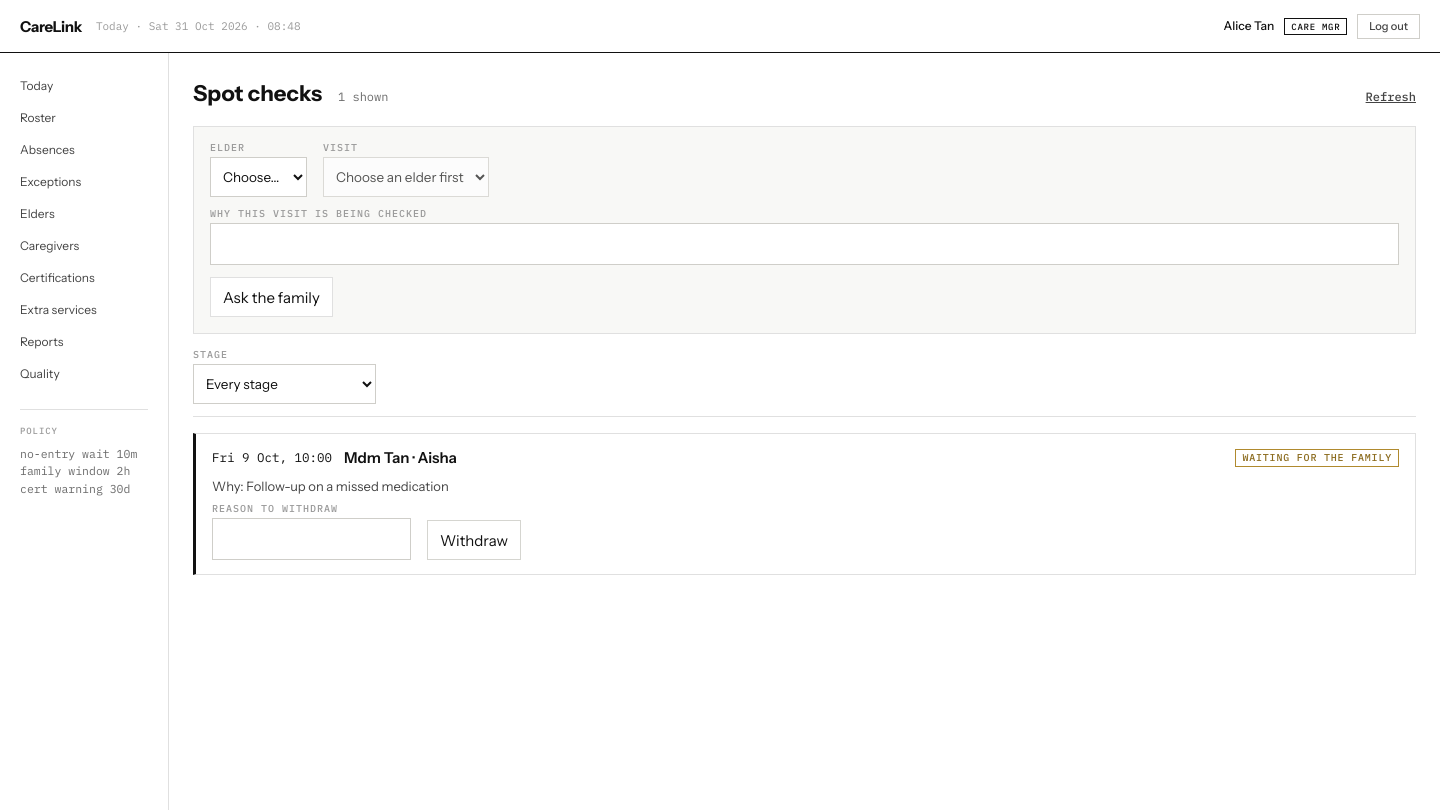
withdraws an open check with a reason and shows why a step was refused
Type "Aisha moved" into the field labelled "Reason to withdraw" at point(312, 539), box left=212, top=518, right=411, bottom=560
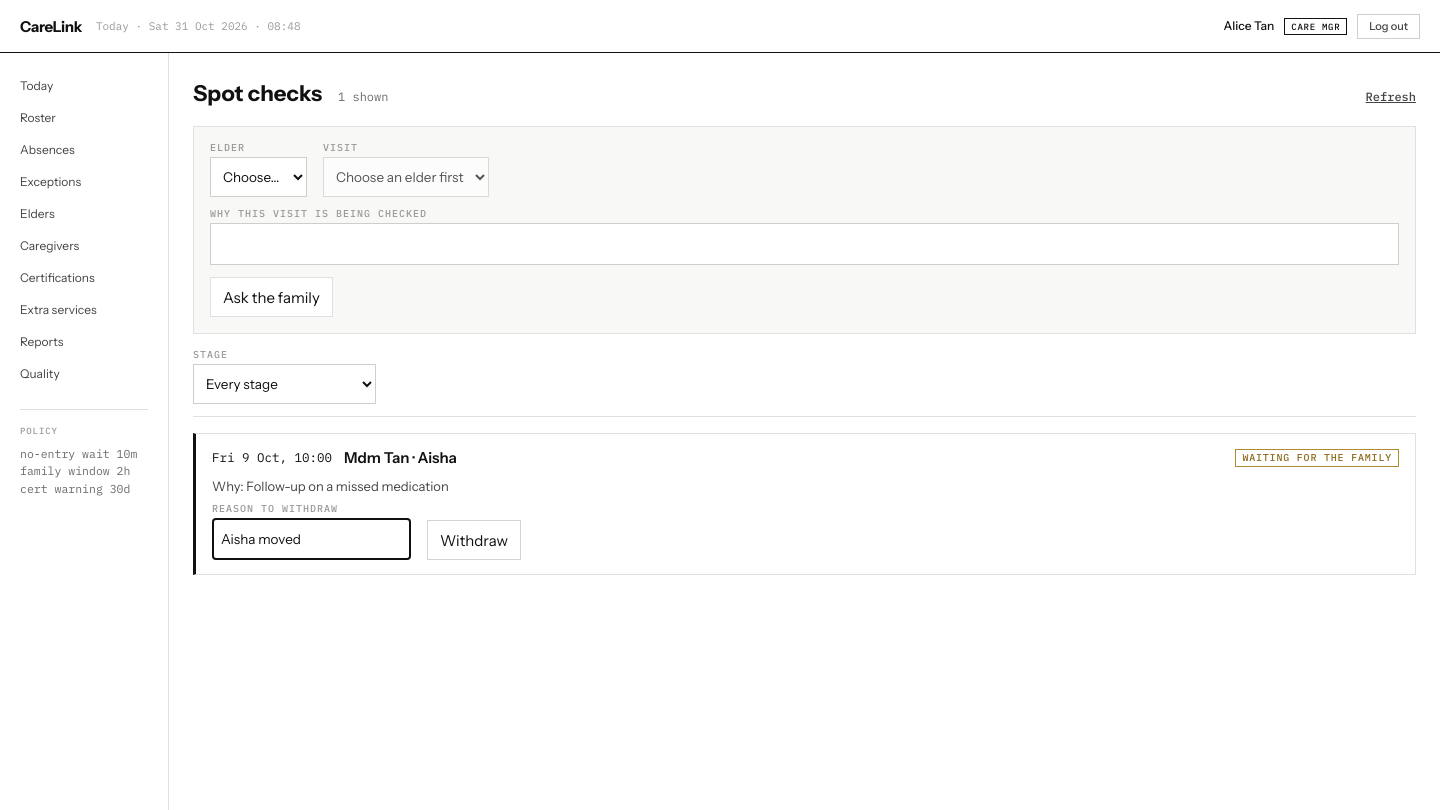
Click the button "Withdraw" at point(474, 540), box left=427, top=520, right=521, bottom=560
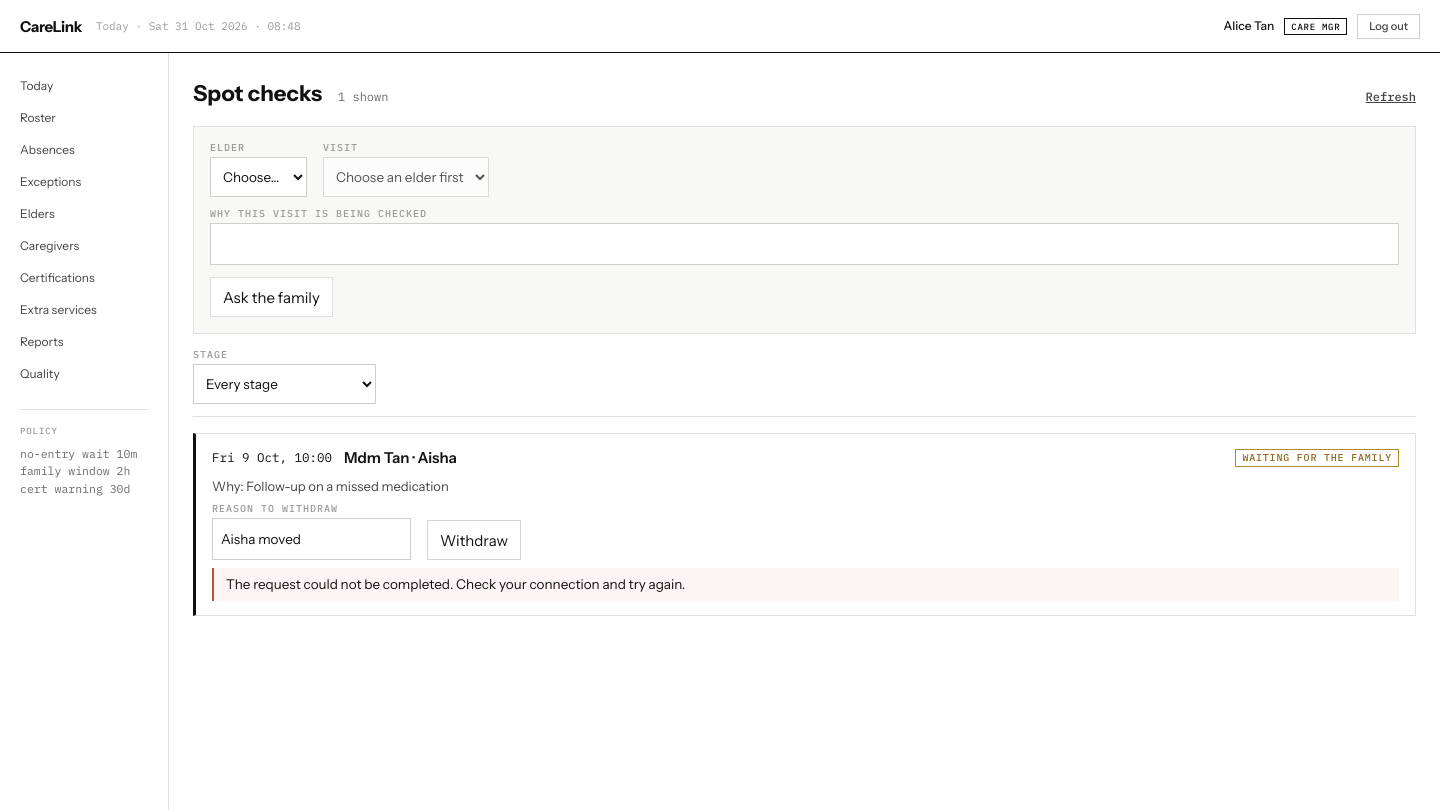
Expected: the message shows "The request could not be completed", left=226, top=576, right=685, bottom=592
